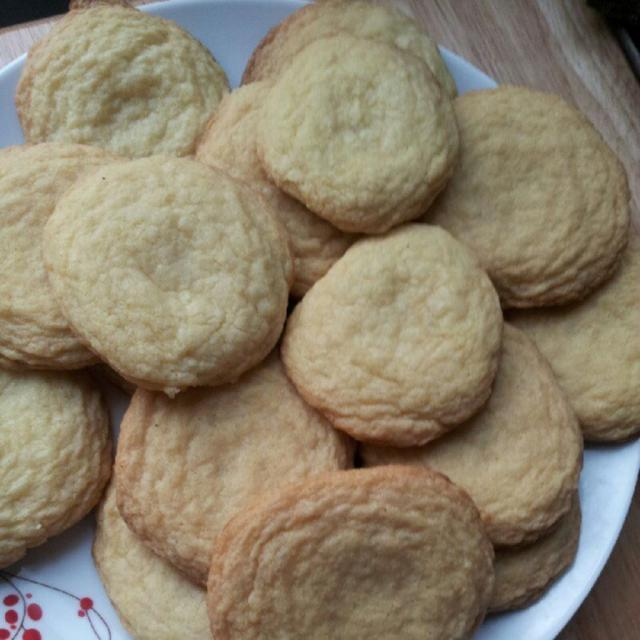Cookie: (44, 153, 295, 395), (113, 349, 365, 587), (208, 467, 497, 639), (286, 222, 508, 442), (375, 319, 586, 550), (413, 84, 627, 309), (253, 33, 469, 239), (197, 79, 357, 301), (18, 0, 232, 159), (501, 228, 639, 442), (0, 137, 117, 375), (0, 370, 113, 569), (234, 0, 454, 98), (95, 464, 218, 638), (486, 492, 579, 612)
